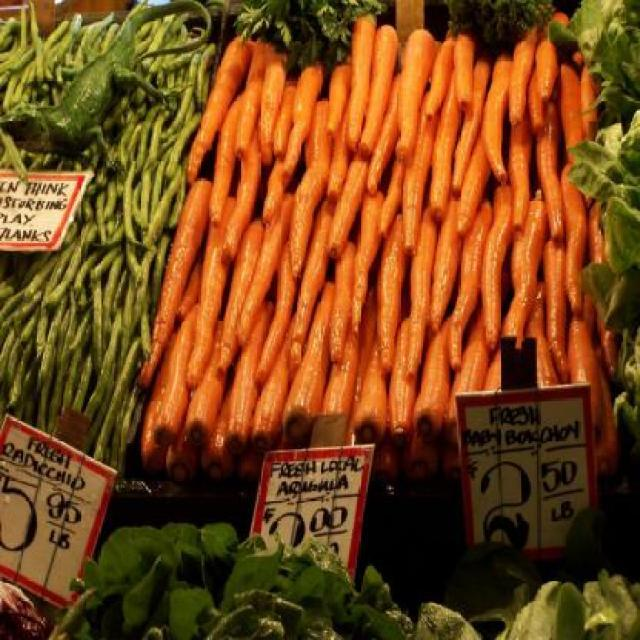Carrot: (136, 0, 622, 488)
